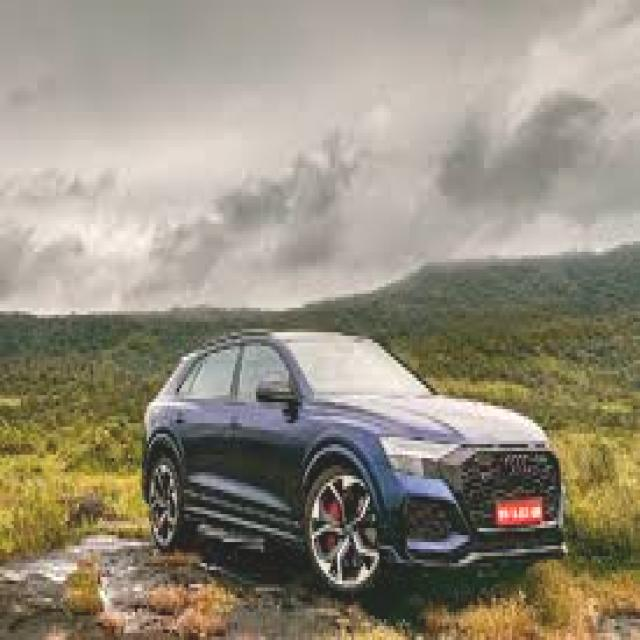SUV: (141, 320, 577, 594)
